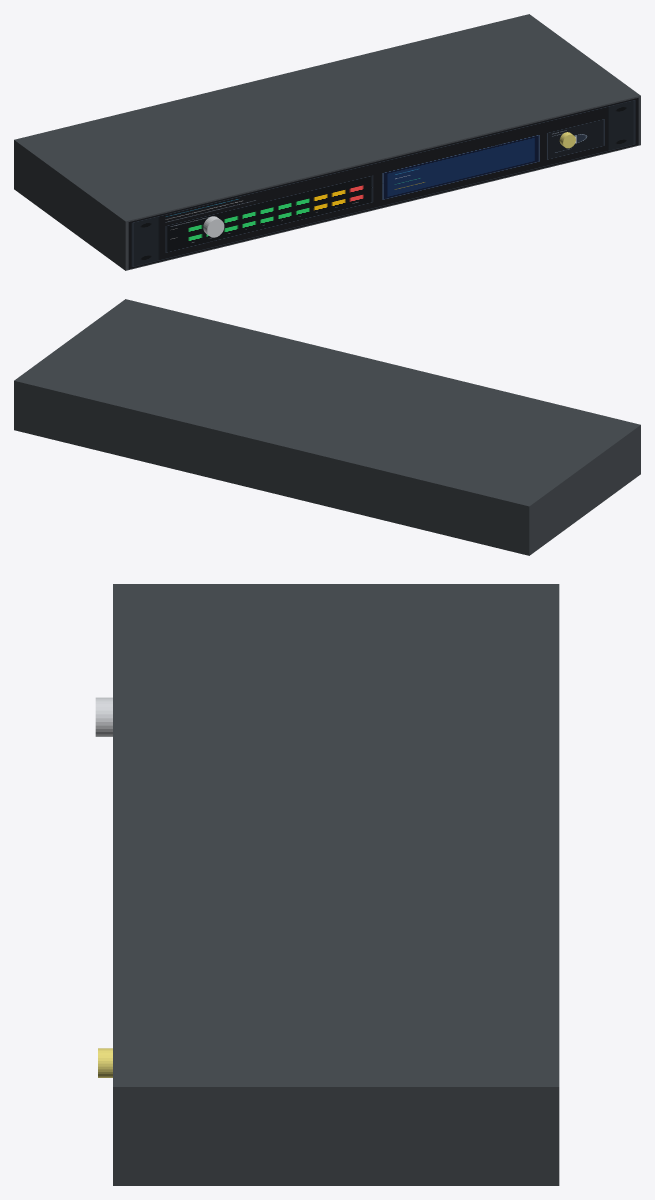
The model's file is audio-monitor.glb.
3 views of the same model, one above another, from view 1: azimuth 30°, elevation 25°; view 2: azimuth 150°, elevation 25°; view 3: azimuth 270°, elevation 25° (orthographic). The views are drawn at different scales.
Visible parts, largest first — view 1: Cube, Plane; view 2: Cube; view 3: Cube.
Part boxes in pixels (x1,y1,x2,y2): Cube: [14, 14, 640, 270]; Plane: [128, 98, 638, 269]; Cube: [14, 299, 640, 555]; Cube: [113, 584, 559, 1185].
Bounding box in the file's own units: 0.48 × 0.044 × 0.187.
4 materials, 1 textured.
